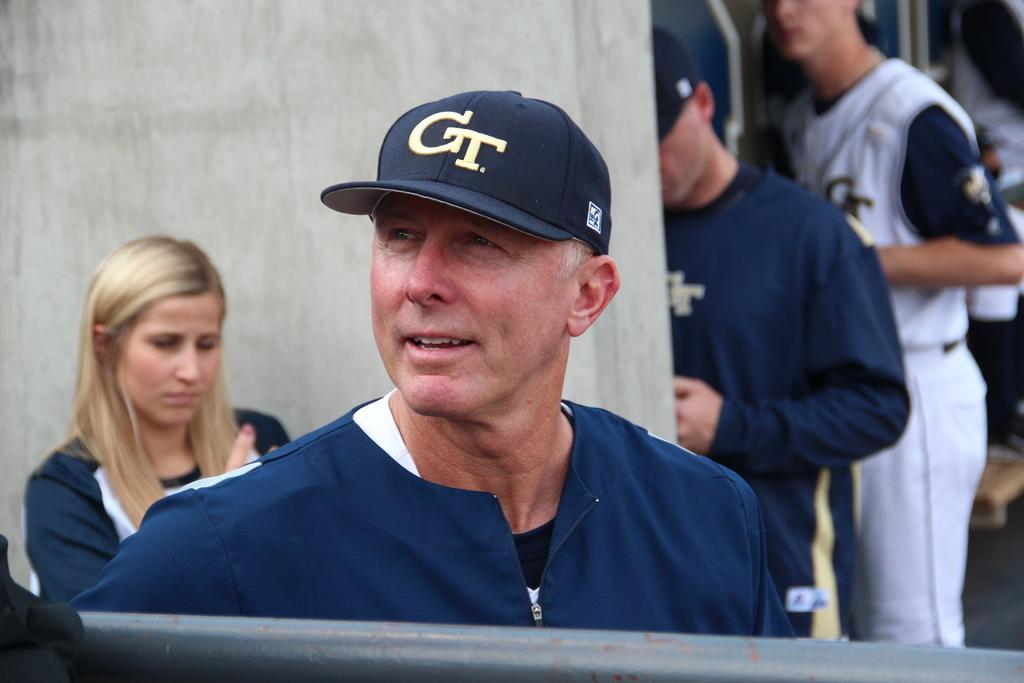Hat: (318, 88, 612, 252), (650, 24, 696, 141)
